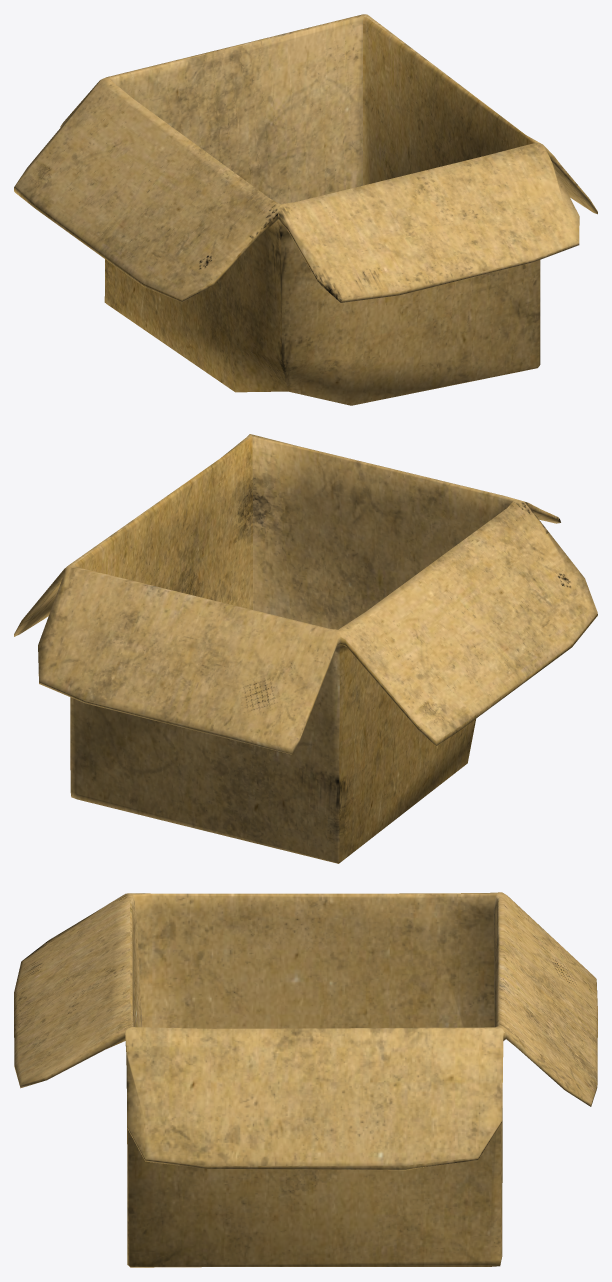
The model's file is Carton_01.FBX.
3 views of the same model, one above another, from view 1: azimuth 30°, elevation 25°; view 2: azimuth 150°, elevation 25°; view 3: azimuth 270°, elevation 25° (orthographic). The views are drawn at different scales.
Parts seen in each view (by area): view 1: Carton_B_001; view 2: Carton_B_001; view 3: Carton_B_001.
Boxes of the visible parts, x1,y1,x2,y2 form: Carton_B_001: (14,14,597,405); Carton_B_001: (14,434,597,863); Carton_B_001: (14,892,597,1267).
Size of the model in its own units: 50.35 by 25.58 by 56.33.
Materials: 1 (1 with a texture image).
